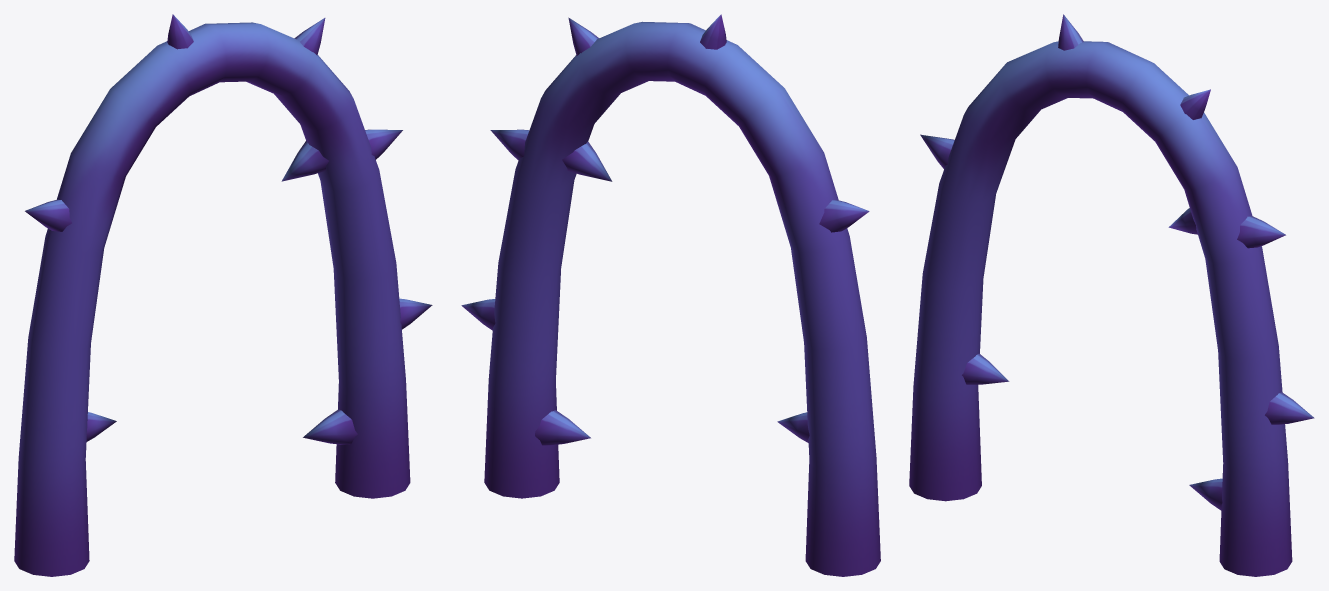
File: ThornVine_S_05.fbx
3 views of the same model, side by side, from view 1: azimuth 30°, elevation 25°; view 2: azimuth 150°, elevation 25°; view 3: azimuth 330°, elevation 25° (orthographic). The views are drawn at different scales.
Visible parts, largest first — view 1: ThornVine_S_5; view 2: ThornVine_S_5; view 3: ThornVine_S_5.
Boxes of the visible parts, left/top/right/bottom form: ThornVine_S_5: left=14, top=14, right=432, bottom=576; ThornVine_S_5: left=461, top=14, right=880, bottom=576; ThornVine_S_5: left=909, top=14, right=1314, bottom=576.
Size of the model in its own units: 79.46 by 94.89 by 12.52.
